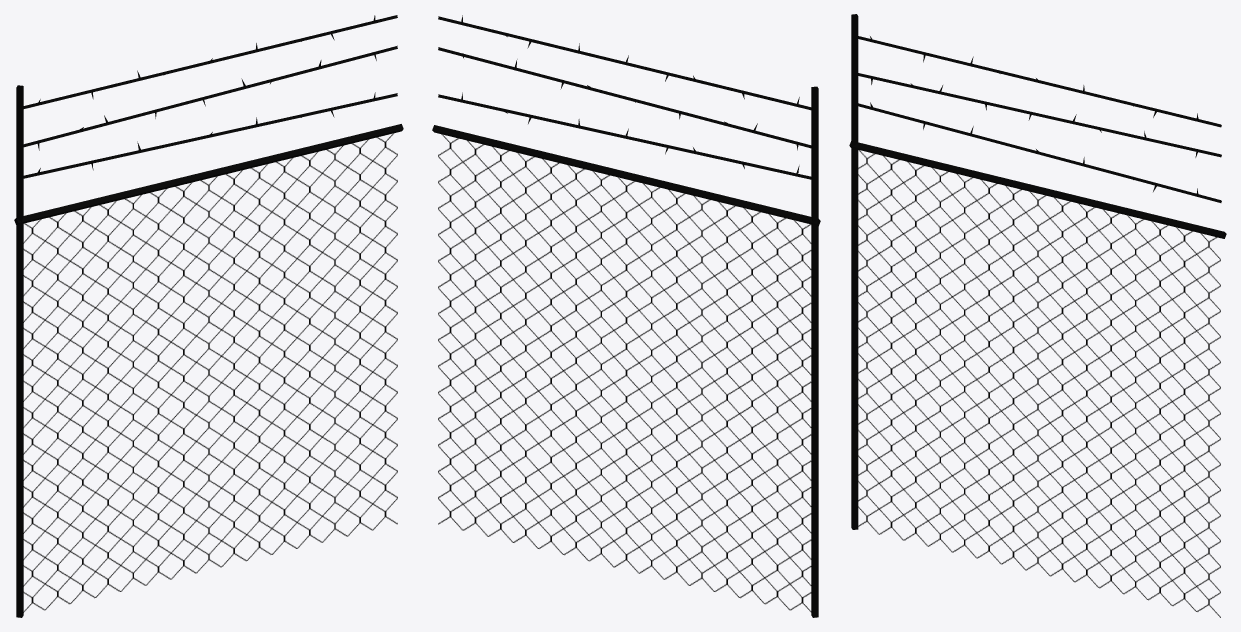
File: camp-props-plane-005.glb
The picture shows the model from 3 angles, left to right: view 1: azimuth 30°, elevation 25°; view 2: azimuth 150°, elevation 25°; view 3: azimuth 330°, elevation 25°; orthographic projection. The views are drawn at different scales.
Parts seen in each view (by area): view 1: camp-props-plane-005; view 2: camp-props-plane-005; view 3: camp-props-plane-005.
Part boxes in pixels (x1,y1,x2,y2): camp-props-plane-005: [14, 15, 403, 617]; camp-props-plane-005: [432, 15, 820, 617]; camp-props-plane-005: [849, 14, 1226, 617].
Bounding box in the file's own units: 2.04 × 2.68 × 0.069.
Materials: 2 (1 with a texture image).
